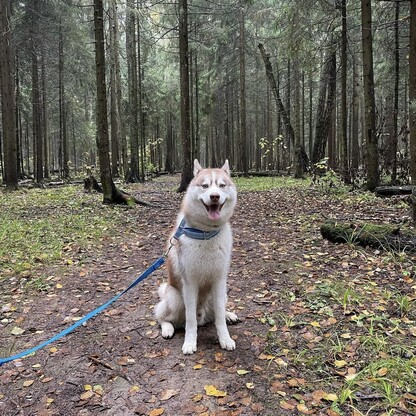husky: (150, 154, 245, 356)
